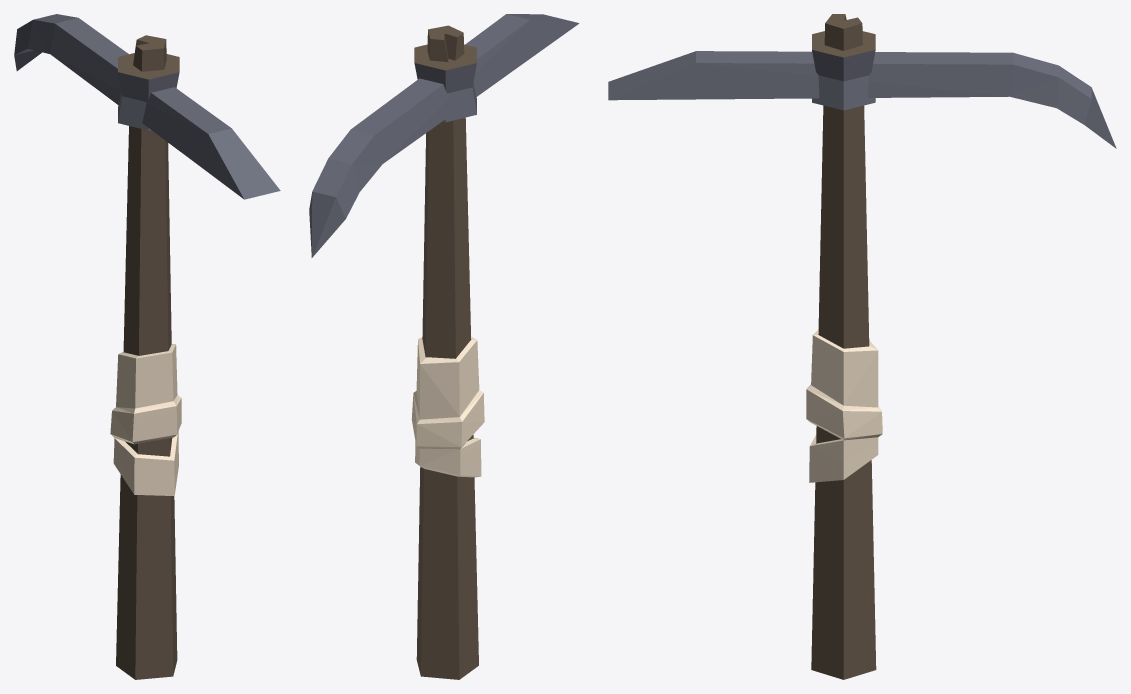
Rendered from _pick_2.fbx.
3 views of the same model, side by side, from view 1: azimuth 30°, elevation 25°; view 2: azimuth 150°, elevation 25°; view 3: azimuth 270°, elevation 25° (orthographic). The views are drawn at different scales.
Parts seen in each view (by area): view 1: pick_2; view 2: pick_2; view 3: pick_2.
Part boxes in pixels (x1,y1,x2,y2): pick_2: (14, 14, 280, 679); pick_2: (309, 14, 579, 679); pick_2: (608, 14, 1116, 679).
Size of the model in its own units: 13.32 by 124 by 88.52.
